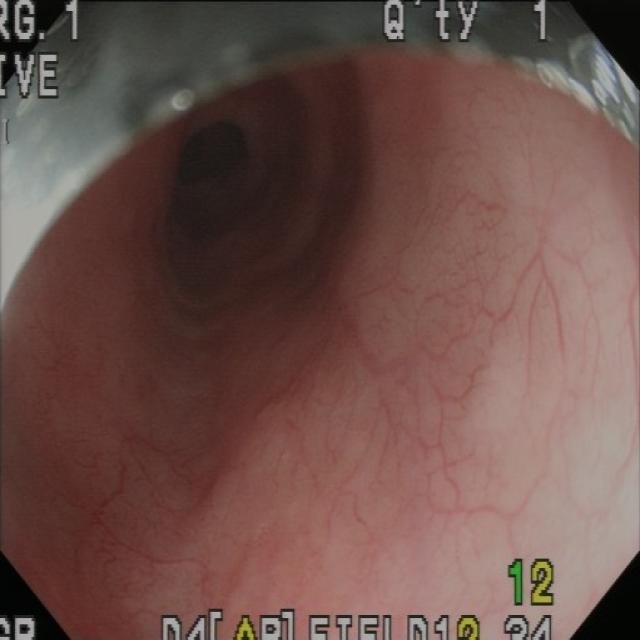E: (149, 96, 313, 272)
S: (160, 608, 483, 640), (383, 3, 558, 45), (3, 3, 83, 45), (3, 50, 63, 101), (507, 558, 556, 608), (506, 614, 556, 640), (2, 614, 39, 640)
U: (3, 101, 132, 303), (534, 35, 639, 139), (170, 82, 199, 117)
